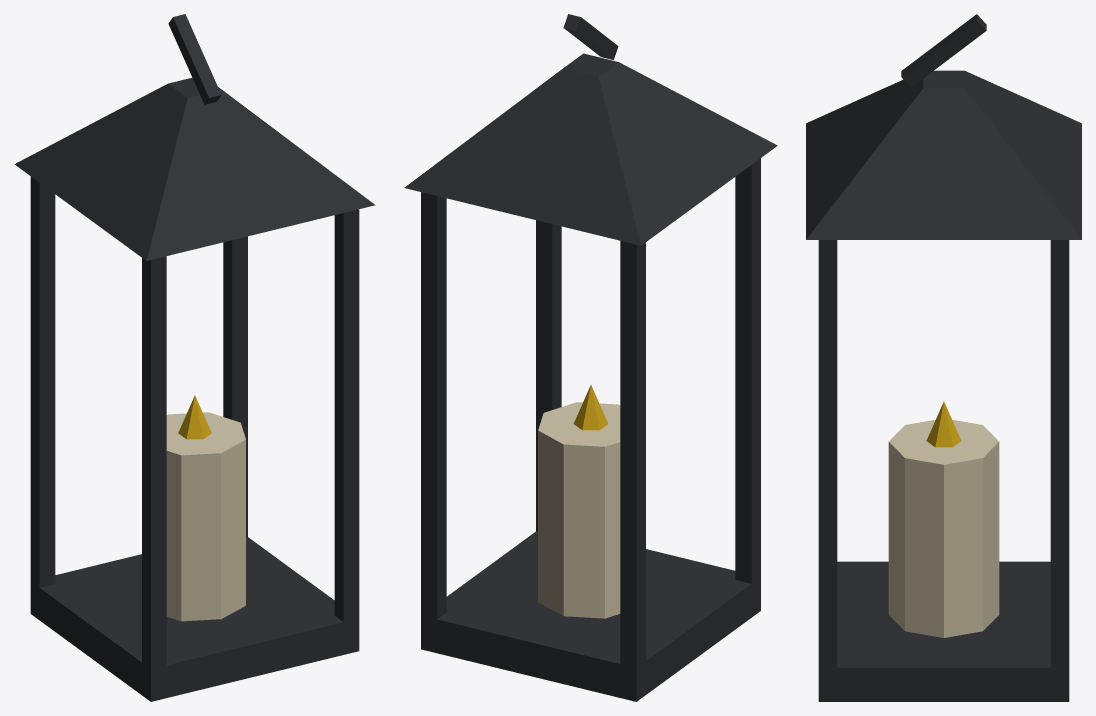
The model's file is candle-holder-47.glb.
The picture shows the model from 3 angles, left to right: view 1: azimuth 30°, elevation 25°; view 2: azimuth 150°, elevation 25°; view 3: azimuth 270°, elevation 25°; orthographic projection. The views are drawn at different scales.
Visible parts, largest first — view 1: candle_holder_47; view 2: candle_holder_47; view 3: candle_holder_47.
Part boxes in pixels (x1,y1,x2,y2): candle_holder_47: (14, 14, 375, 701); candle_holder_47: (404, 14, 777, 701); candle_holder_47: (806, 14, 1081, 701).
Bounding box in the file's own units: 0.2196 × 0.5546 × 0.2196.
